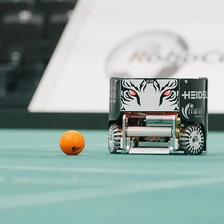ball: (58, 128, 86, 156)
robot: (106, 75, 209, 156)
